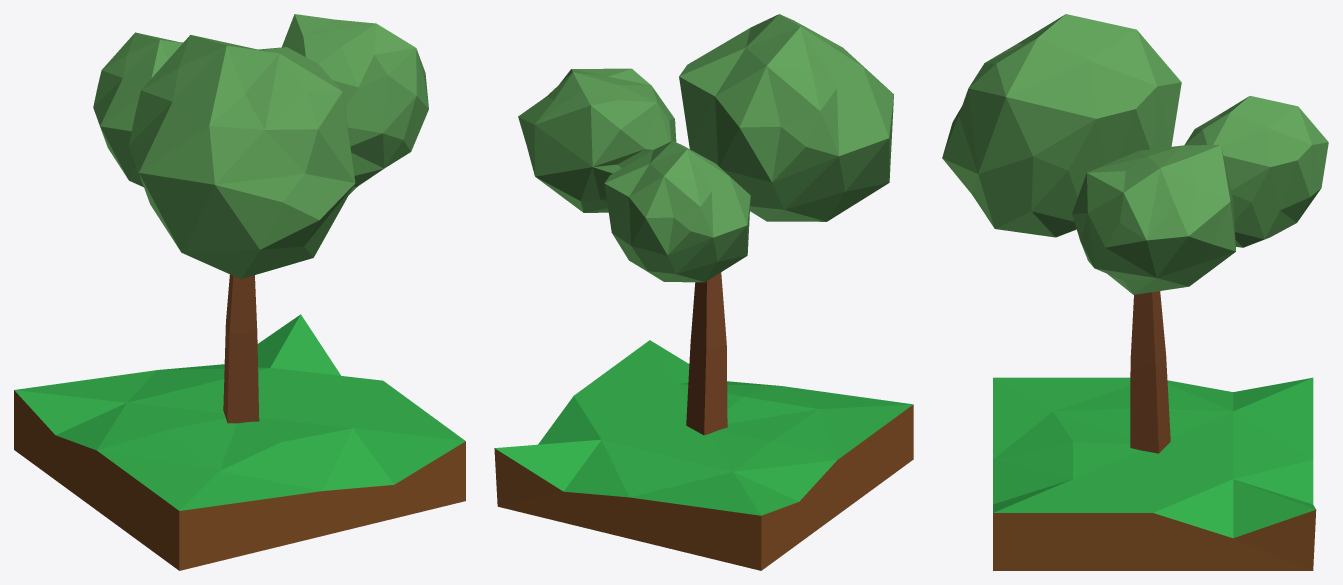
The model's file is tree.gltf.
3 views of the same model, side by side, from view 1: azimuth 30°, elevation 25°; view 2: azimuth 150°, elevation 25°; view 3: azimuth 270°, elevation 25° (orthographic). The views are drawn at different scales.
Visible parts, largest first — view 1: Cube, Icosphere.002, Icosphere.003, Icosphere.001, Icosphere.000; view 2: Cube, Icosphere.002, Icosphere.001, Icosphere.003, Icosphere.000; view 3: Cube, Icosphere.002, Icosphere.003, Icosphere.001, Icosphere.000.
Part boxes in pixels (box(x1,y1,x2,y2)): Cube: box(14, 314, 465, 570); Icosphere.002: box(128, 34, 355, 278); Icosphere.003: box(282, 14, 428, 194); Icosphere.001: box(93, 32, 183, 187); Icosphere.000: box(223, 274, 259, 423); Cube: box(494, 340, 913, 570); Icosphere.002: box(679, 14, 893, 221); Icosphere.001: box(604, 141, 750, 282); Icosphere.003: box(518, 68, 676, 212); Icosphere.000: box(686, 272, 727, 435); Cube: box(993, 377, 1316, 570); Icosphere.002: box(942, 14, 1181, 237); Icosphere.003: box(1072, 145, 1235, 294); Icosphere.001: box(1184, 96, 1328, 247); Icosphere.000: box(1130, 291, 1170, 453).
Size of the model in its own units: 2.34 by 3.18 by 2.42.
